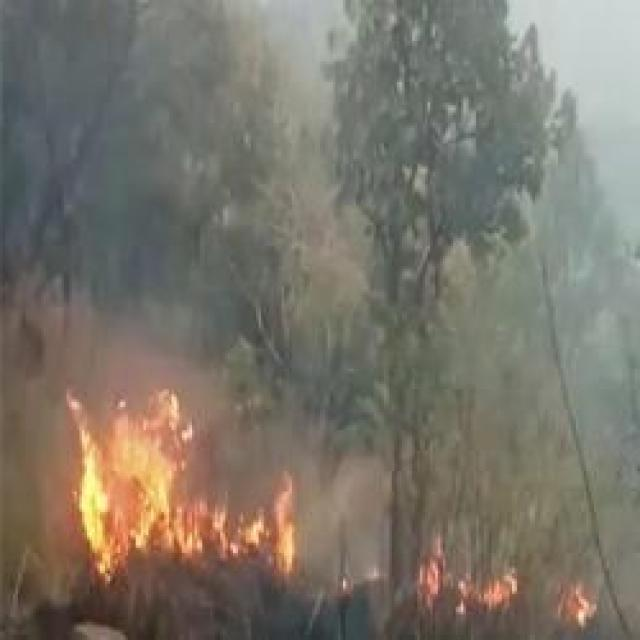fire: (72, 448, 121, 562), (266, 489, 302, 571)
